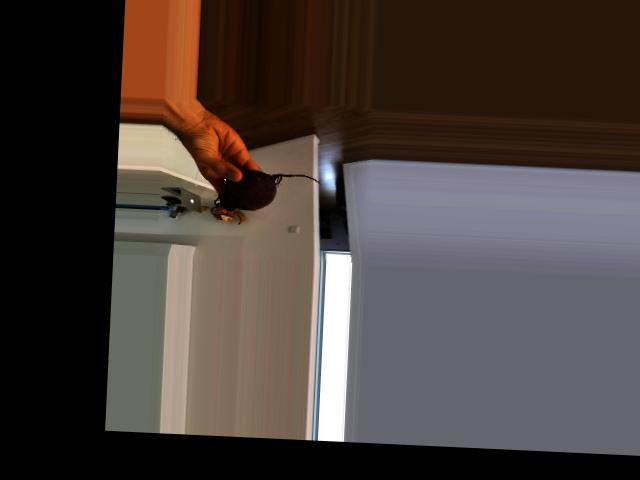beet: (214, 168, 321, 214)
